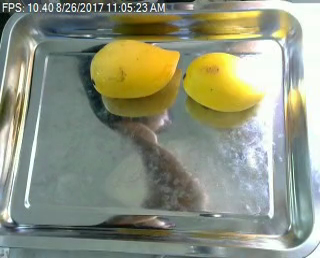Mango: (85, 38, 187, 105), (181, 49, 272, 115)
